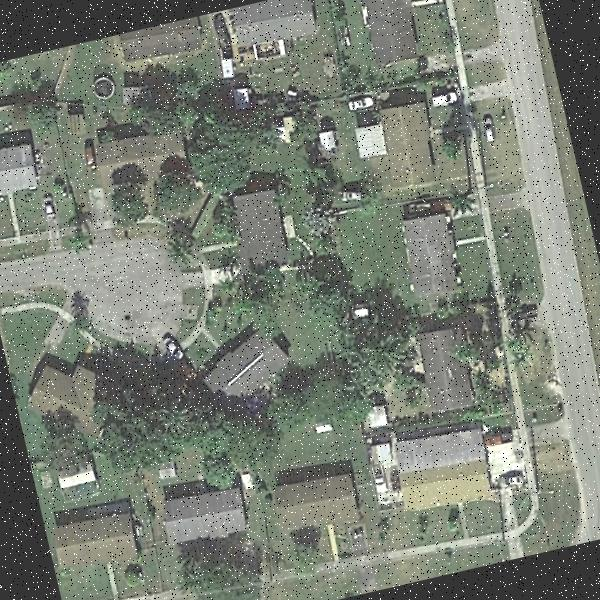Buildings: (390, 422, 498, 507), (25, 354, 99, 440), (46, 516, 140, 583), (224, 183, 291, 274), (399, 209, 461, 298), (274, 473, 364, 534), (421, 324, 478, 416), (374, 103, 432, 192), (106, 15, 206, 63), (232, 0, 322, 53), (157, 488, 248, 540), (208, 325, 278, 389), (96, 129, 176, 180), (357, 0, 417, 60), (0, 138, 32, 192)
